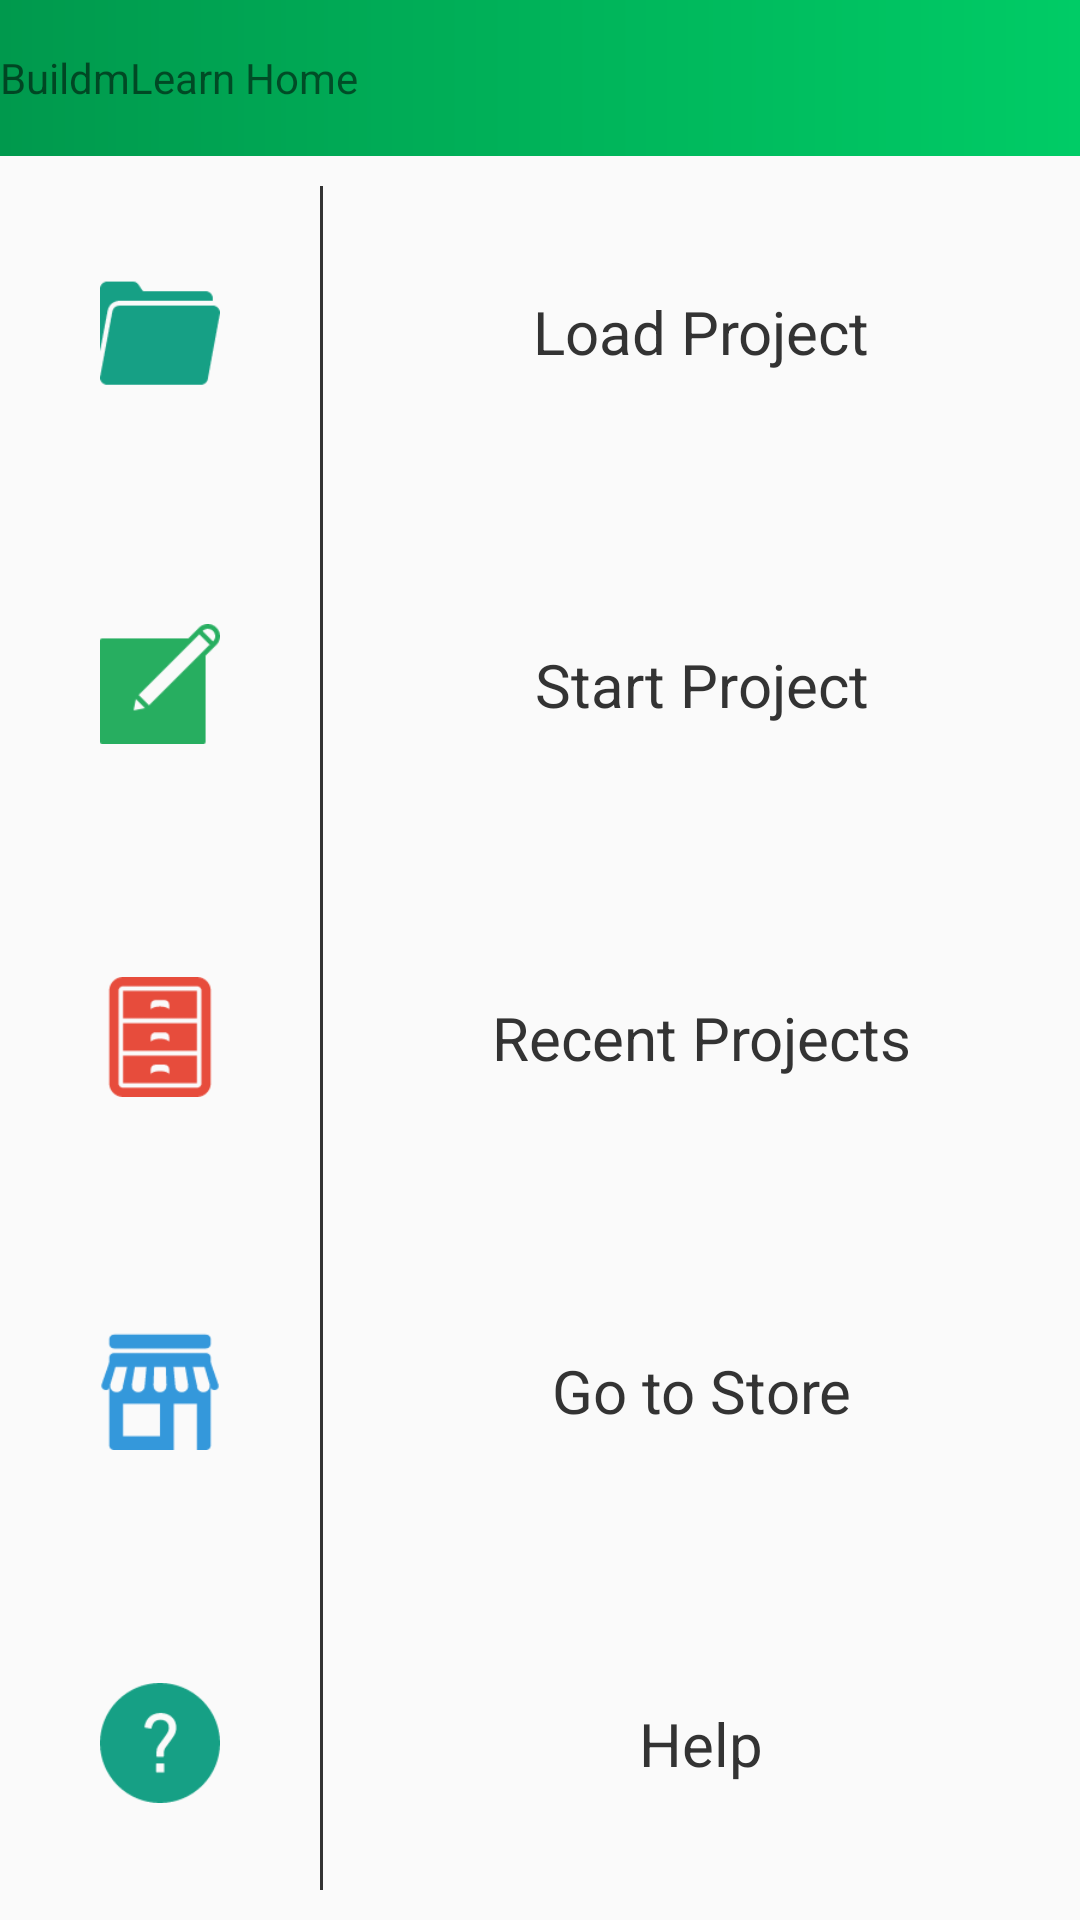

Icon click points for this 1080 x 1920 phone screenshot, format (x=x, y=y):
filing cabinet: (x=160, y=1037)
folder: (x=160, y=333)
shop: (x=160, y=1392)
